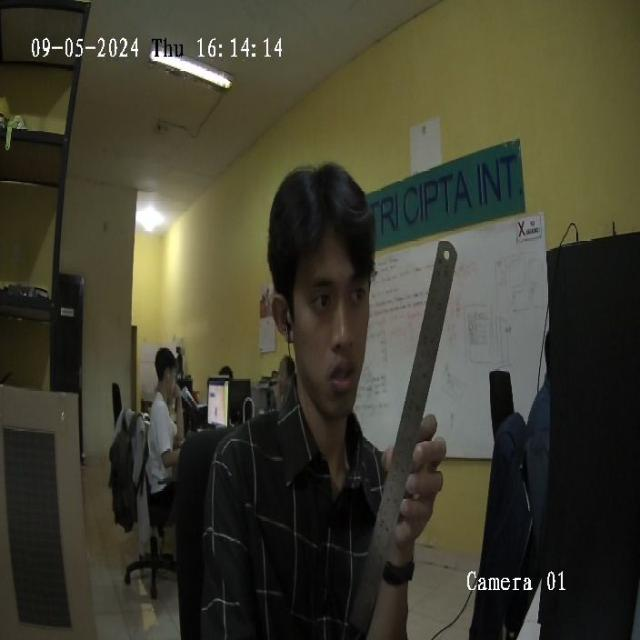Ruler: (353, 240, 456, 629)
